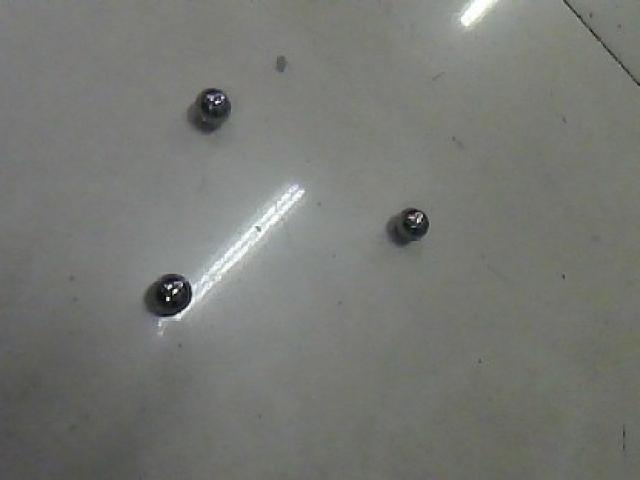steel-ball: (177, 76, 255, 142), (138, 246, 196, 325), (380, 194, 438, 243)
